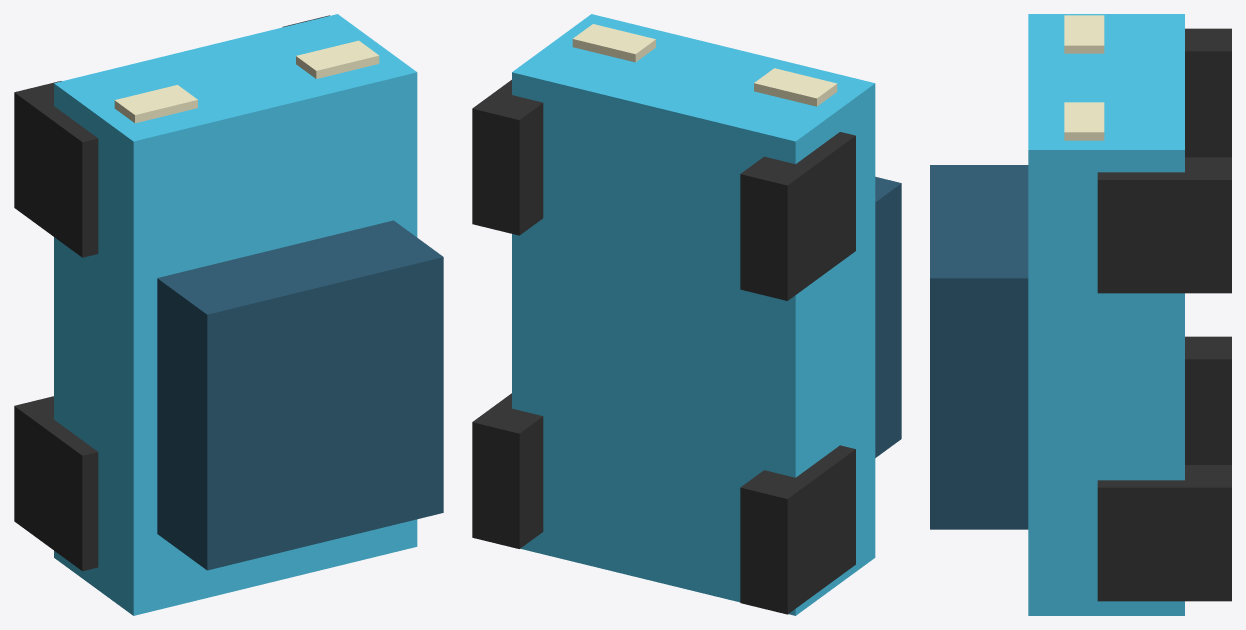
File: ego_vehicle.glb
The picture shows the model from 3 angles, left to right: view 1: azimuth 30°, elevation 25°; view 2: azimuth 150°, elevation 25°; view 3: azimuth 270°, elevation 25°; orthographic projection.
Bounding box in the file's own units: 0.8 × 1.17 × 0.675.
